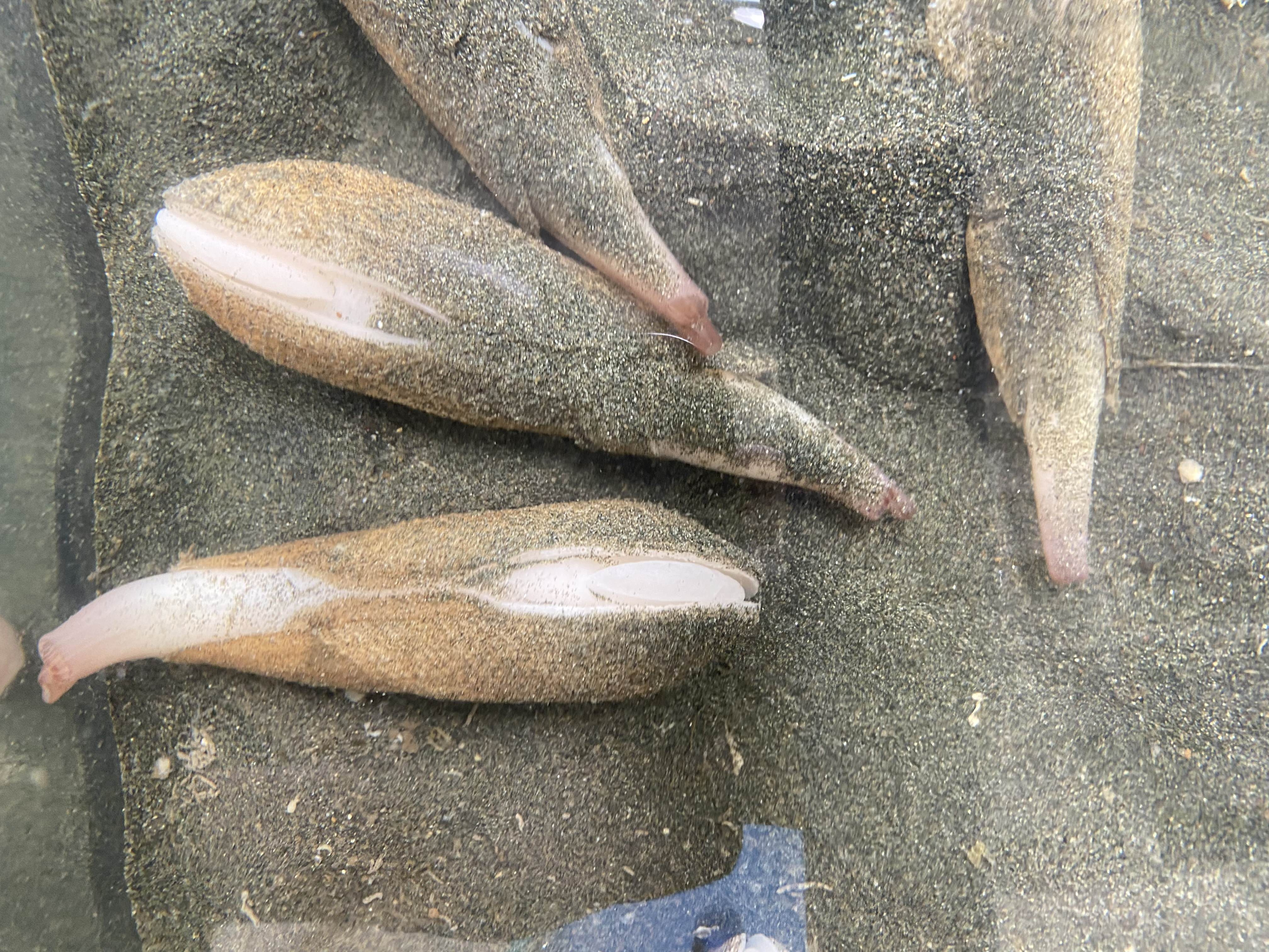Healthy: (153, 160, 914, 519), (39, 500, 758, 702), (927, 0, 1142, 584), (529, 129, 721, 354)
